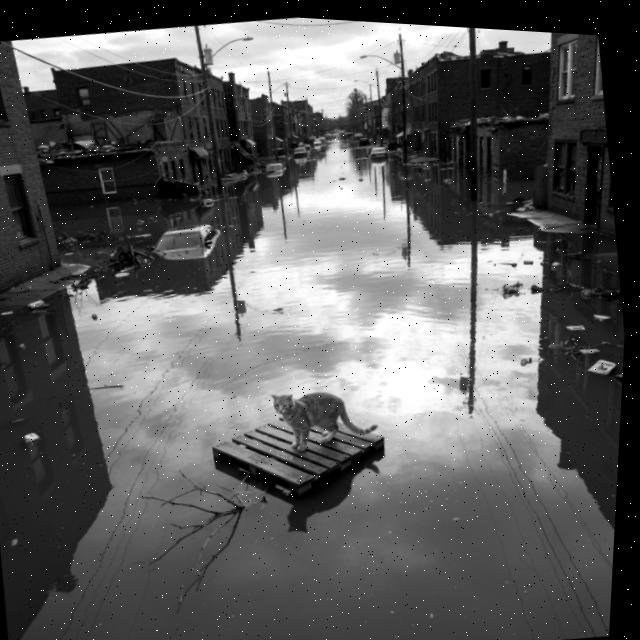cat: (254, 362, 391, 470)
